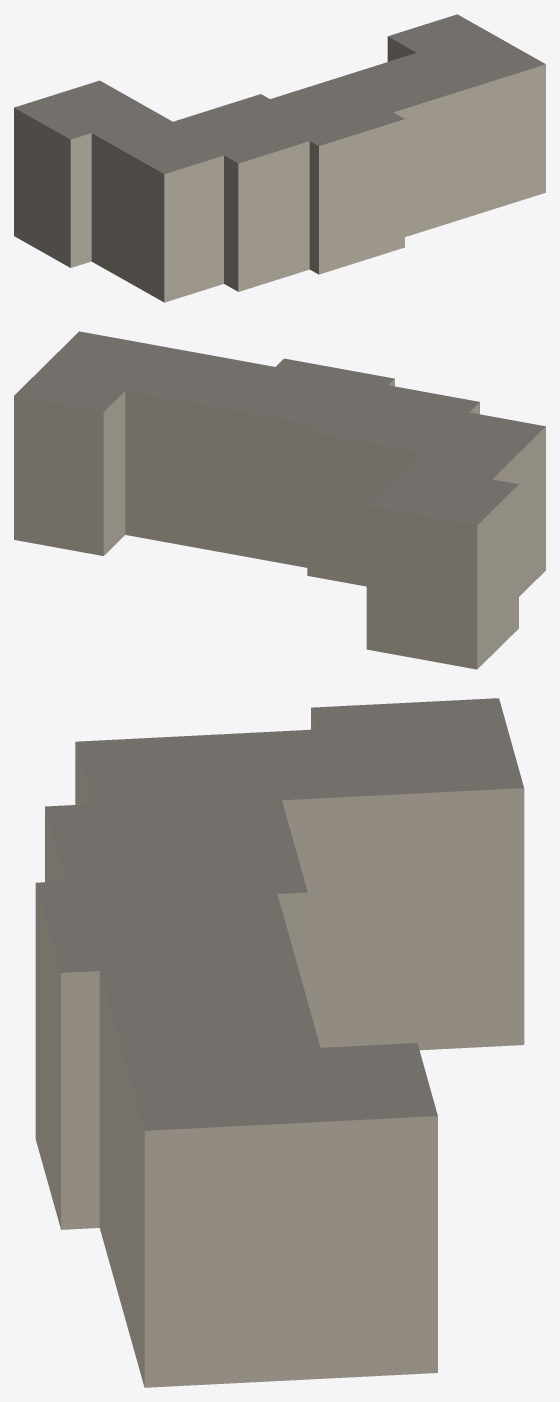
3 renders of one model, top to bottom at view 1: azimuth 30°, elevation 25°; view 2: azimuth 150°, elevation 25°; view 3: azimuth 270°, elevation 25°, orthographic. The views are drawn at different scales.
Visible parts, largest first — view 1: HP-w859488884; view 2: HP-w859488884; view 3: HP-w859488884.
Boxes of the visible parts, bbox=[...] form: HP-w859488884: bbox=[14, 14, 545, 302]; HP-w859488884: bbox=[14, 331, 545, 669]; HP-w859488884: bbox=[35, 698, 524, 1387].
Bounding box in the file's own units: 65.01 × 18 × 31.01.
